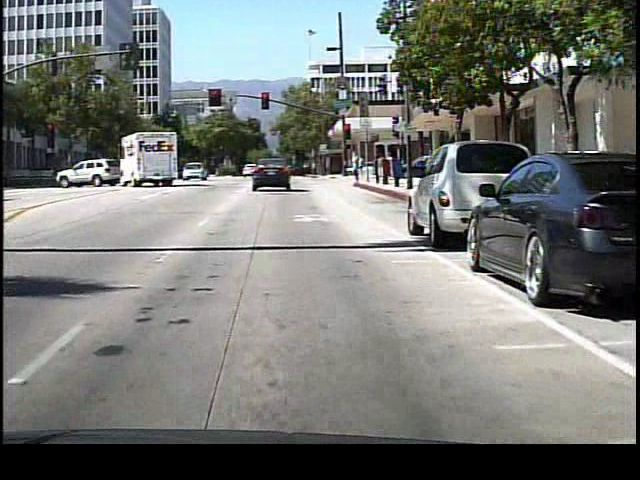person: (347, 149, 366, 187)
